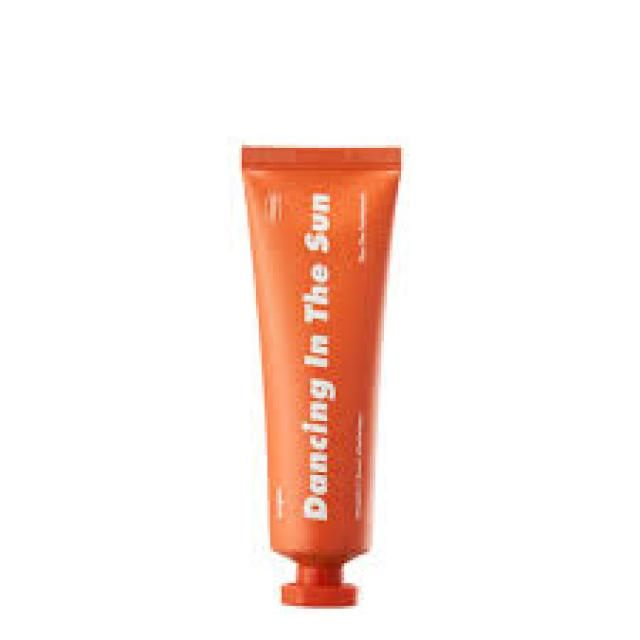toothpaste: (222, 132, 416, 618)
